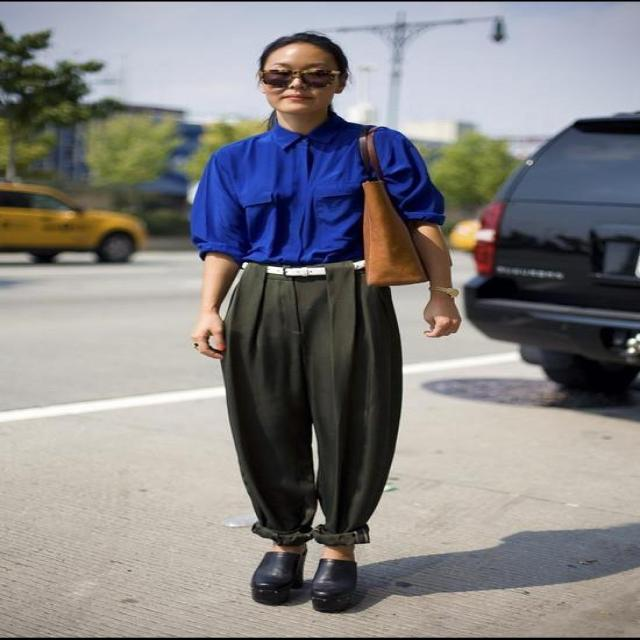pants: (222, 262, 403, 542)
shirt: (189, 110, 446, 263)
